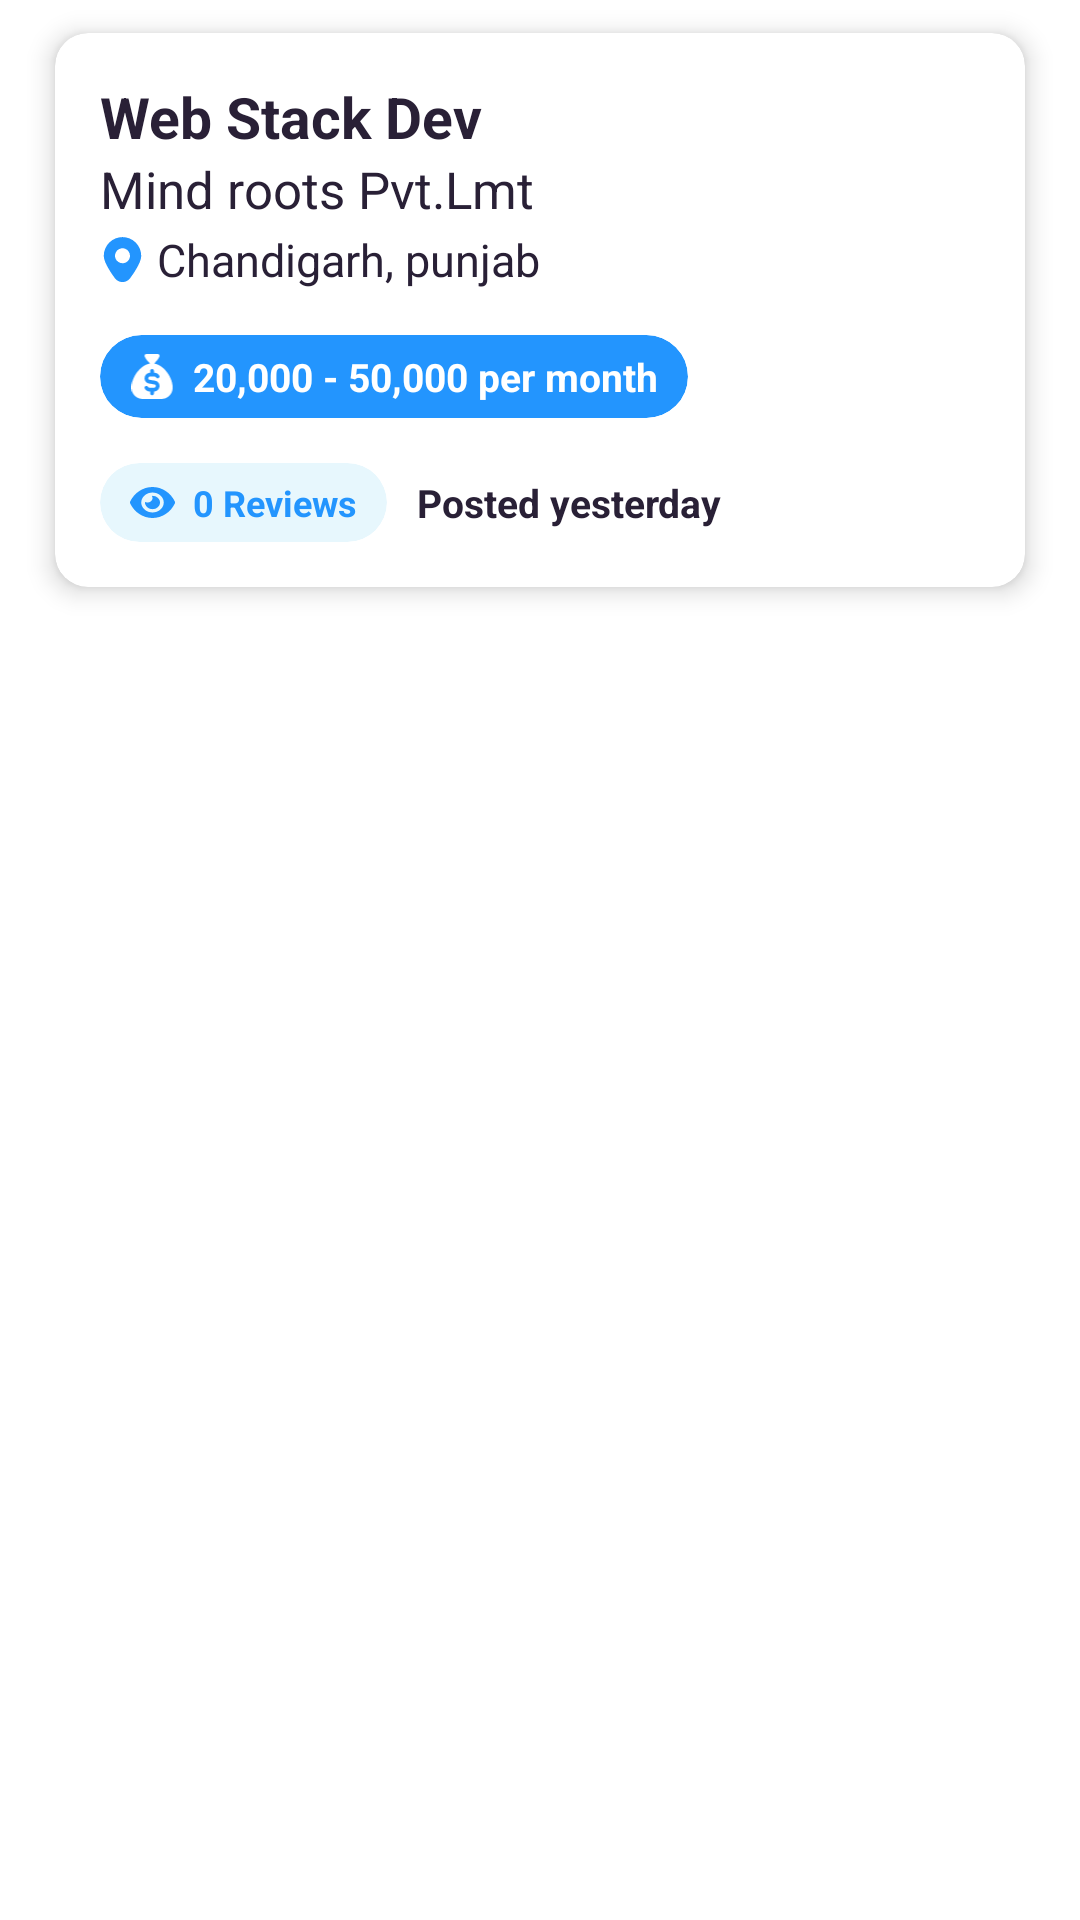

Icon bounding boxes for this 1080w x 1920h phone screenshot, format (x1, y1, x2, y2):
location: (103, 237, 142, 282)
salary: (131, 354, 173, 399)
